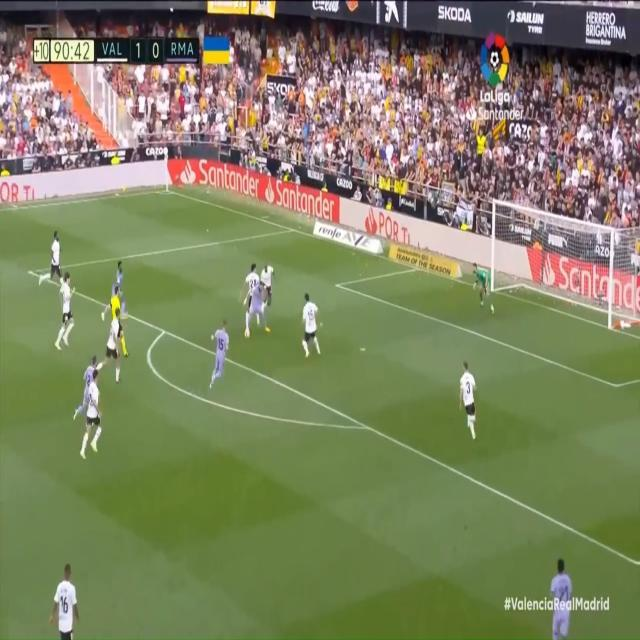goalkeeper: (469, 260, 494, 318)
player: (49, 556, 84, 640), (544, 544, 574, 640), (79, 367, 105, 463), (100, 254, 129, 324), (54, 265, 76, 357), (97, 305, 122, 385), (36, 226, 66, 291), (207, 319, 232, 392), (300, 289, 323, 362), (460, 359, 479, 444), (247, 283, 268, 336), (245, 252, 261, 317), (261, 252, 278, 306)
referee: (106, 279, 127, 354)
